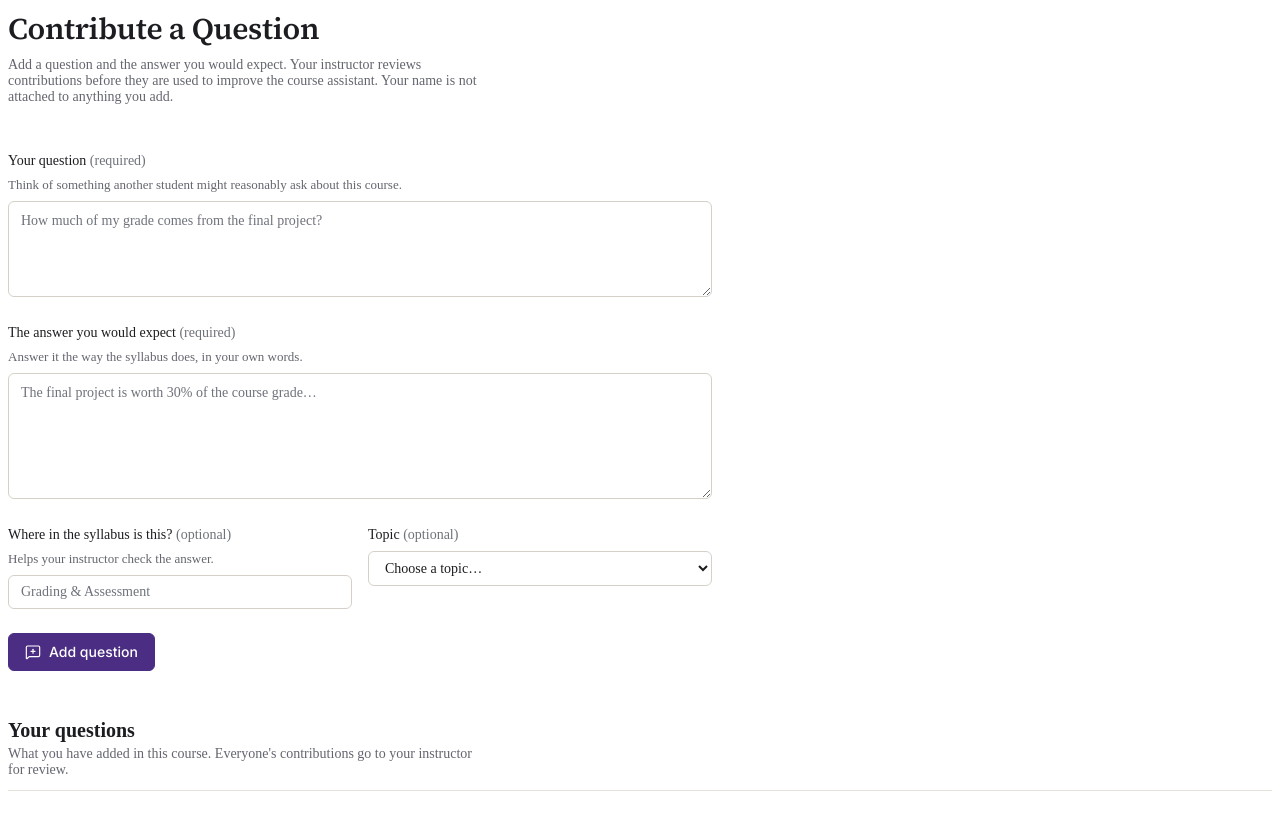
Scenario: ContributePage › requires a question and an answer
Click the button "Add question". click: (81, 652)
box: x1=8 y1=633 x2=155 y2=671
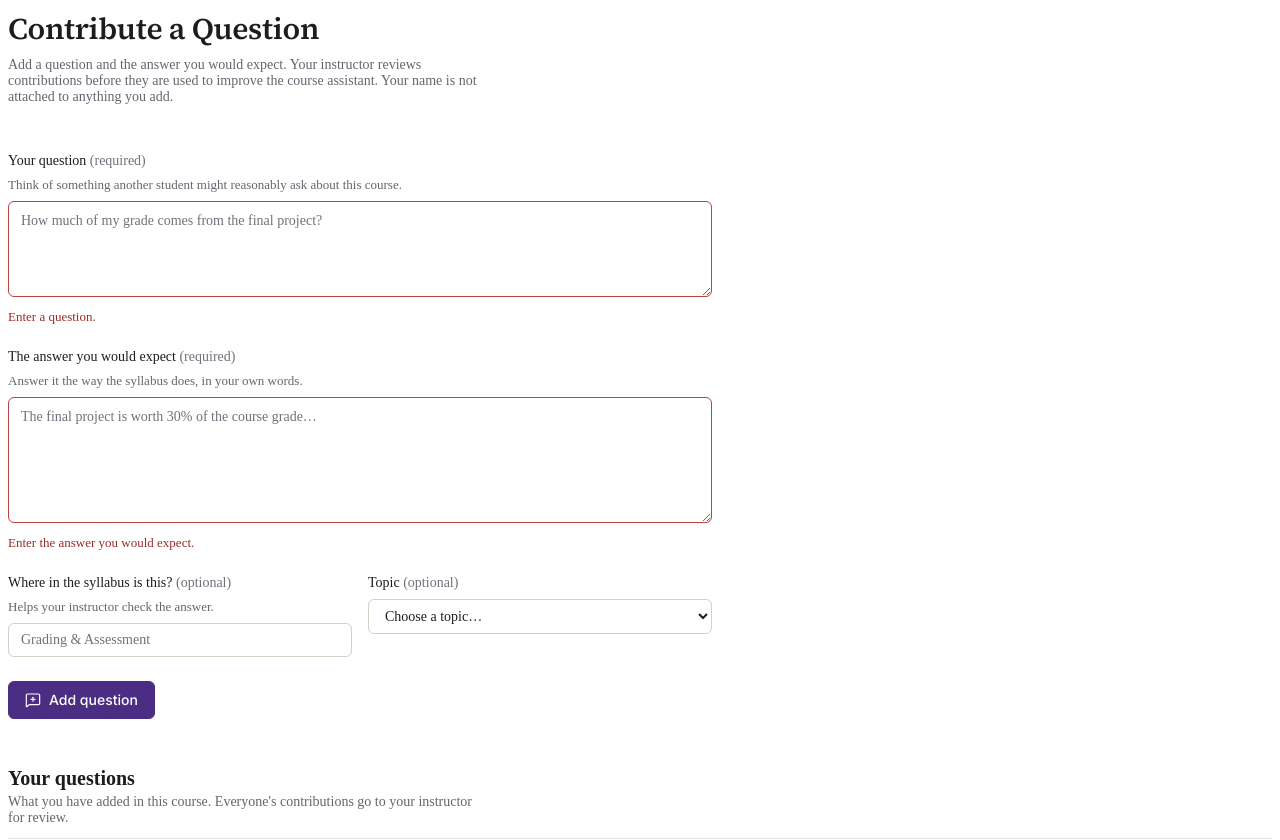
Now the text "Enter a question." is shown, box x1=8 y1=309 x2=96 y2=324
Now the text "Enter the answer you would expect." is shown, box x1=8 y1=535 x2=194 y2=550
